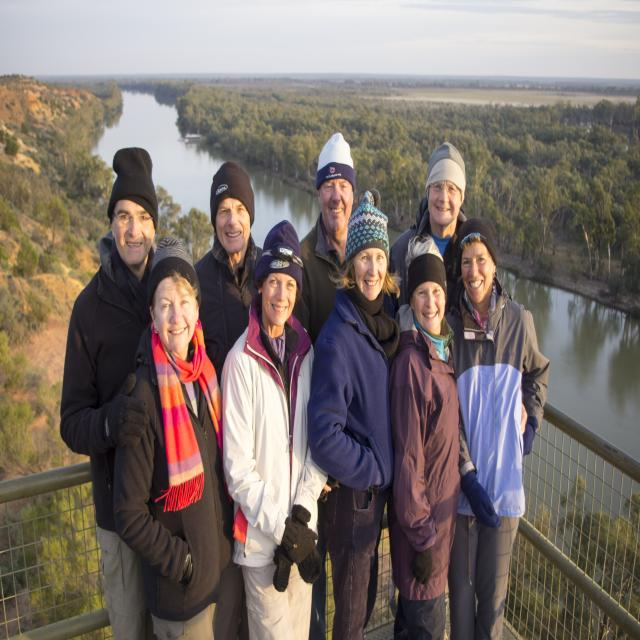body: (111, 235, 234, 638), (217, 214, 333, 640), (59, 146, 159, 640), (441, 214, 552, 640), (302, 182, 404, 640), (386, 234, 461, 638), (192, 160, 265, 387), (390, 141, 468, 322), (296, 126, 358, 348)
